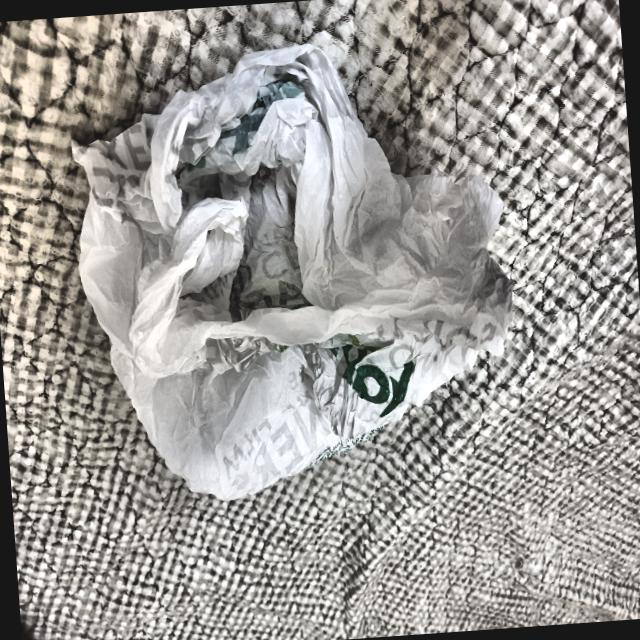plastic bag: (51, 12, 540, 524)
